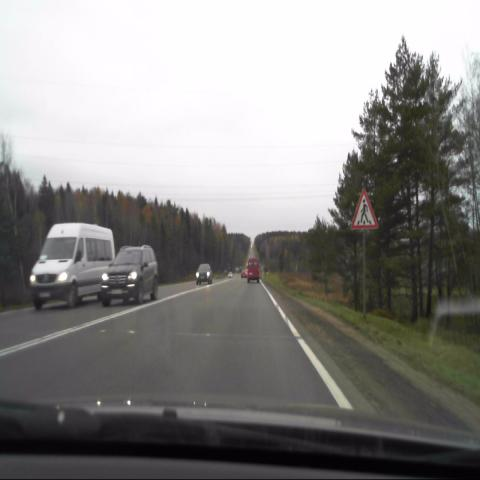1_22: (350, 185, 381, 230)
